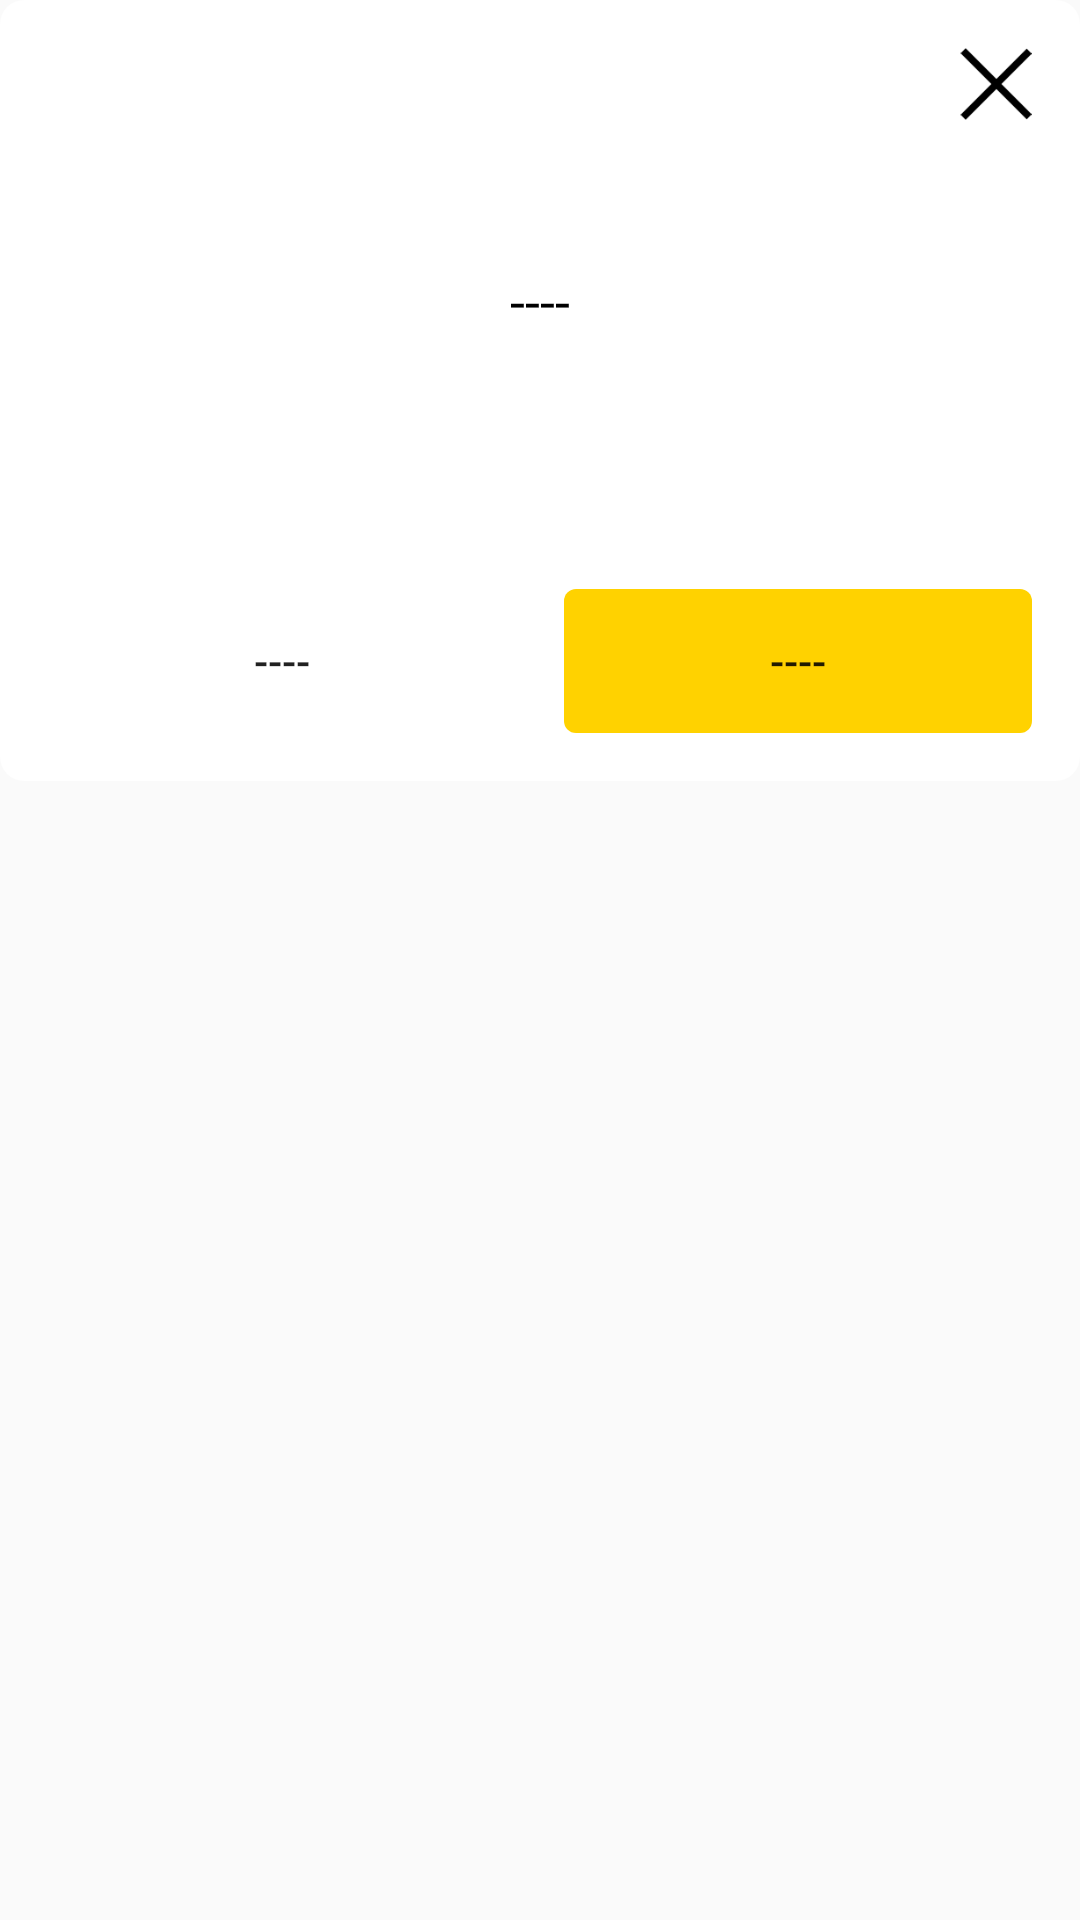

Screen size 1080x1920. Icon name, then its box in pixels as region(x1, y1, x2, y2):
cancel: region(960, 48, 1032, 120)
